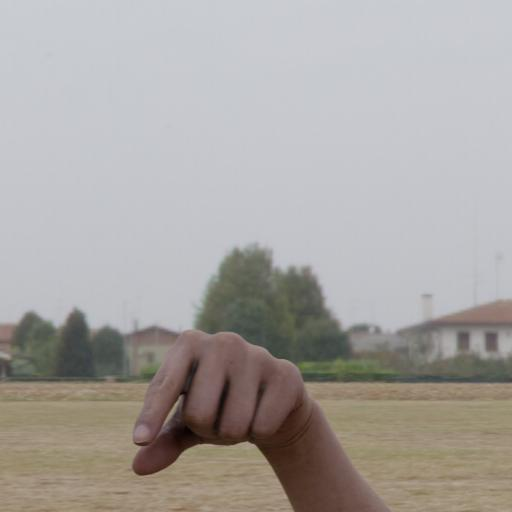Q: (121, 315, 327, 503)
